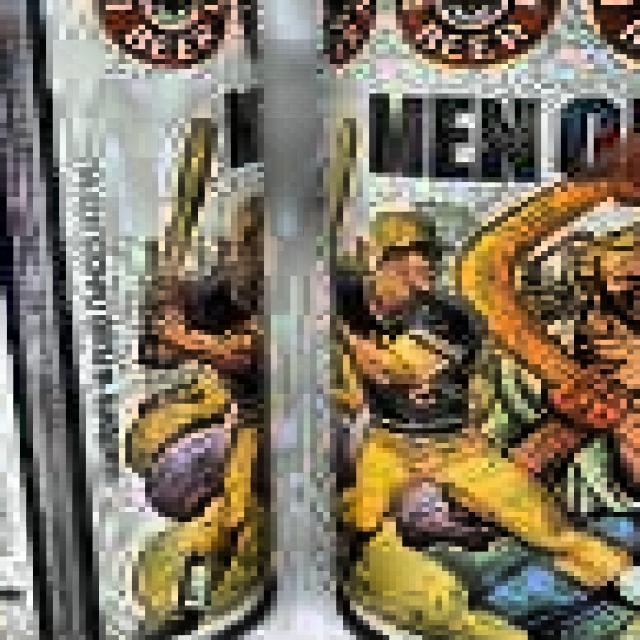metal: (303, 0, 640, 640), (0, 0, 290, 640)
